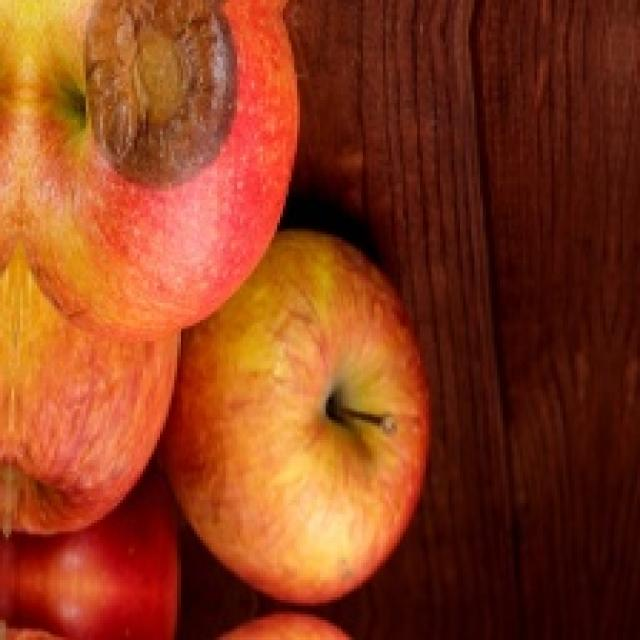rotten_apple: (22, 0, 297, 321)
